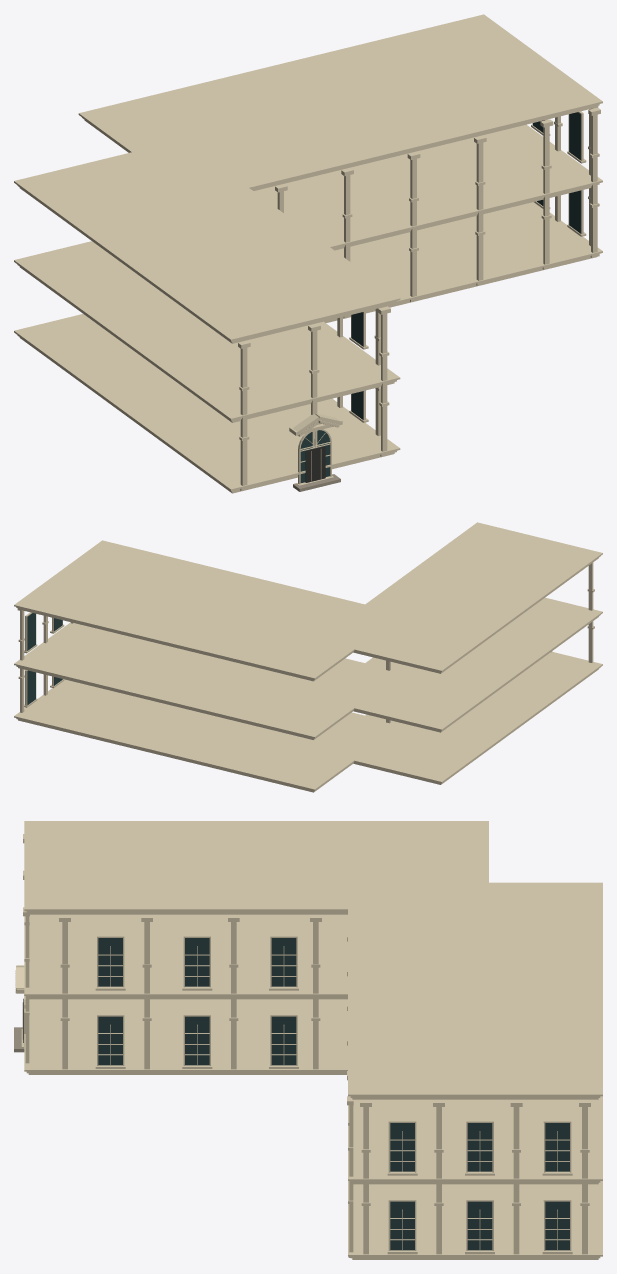
File: KOL_T1_GPO__10_Rear_Architecture.fbx
3 views of the same model, one above another, from view 1: azimuth 30°, elevation 25°; view 2: azimuth 150°, elevation 25°; view 3: azimuth 270°, elevation 25° (orthographic). The views are drawn at different scales.
Visible parts, largest first — view 1: KOL_T1_GPO__10_Rear_Architecture__KOL_T1_HeritageCream, KOL_T1_GPO__10_Rear_Architecture__KOL_T1_HeritageGlass, KOL_T1_GPO__10_Rear_Architecture__KOL_T1_HeritageDark; view 2: KOL_T1_GPO__10_Rear_Architecture__KOL_T1_HeritageCream, KOL_T1_GPO__10_Rear_Architecture__KOL_T1_HeritageGlass; view 3: KOL_T1_GPO__10_Rear_Architecture__KOL_T1_HeritageCream, KOL_T1_GPO__10_Rear_Architecture__KOL_T1_HeritageGlass.
Boxes of the visible parts, bbox=[...] form: KOL_T1_GPO__10_Rear_Architecture__KOL_T1_HeritageCream: bbox=[14, 14, 602, 493]; KOL_T1_GPO__10_Rear_Architecture__KOL_T1_HeritageGlass: bbox=[300, 112, 580, 482]; KOL_T1_GPO__10_Rear_Architecture__KOL_T1_HeritageDark: bbox=[305, 446, 325, 482]; KOL_T1_GPO__10_Rear_Architecture__KOL_T1_HeritageCream: bbox=[14, 522, 602, 792]; KOL_T1_GPO__10_Rear_Architecture__KOL_T1_HeritageGlass: bbox=[27, 613, 62, 705]; KOL_T1_GPO__10_Rear_Architecture__KOL_T1_HeritageCream: bbox=[15, 821, 602, 1259]; KOL_T1_GPO__10_Rear_Architecture__KOL_T1_HeritageGlass: bbox=[98, 938, 569, 1250].
Size of the model in its own units: 142 by 42.62 by 129.
